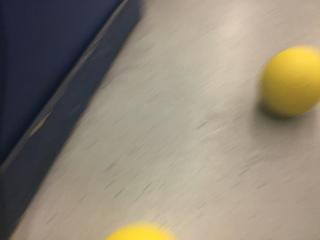power_cell: (254, 44, 320, 113)
